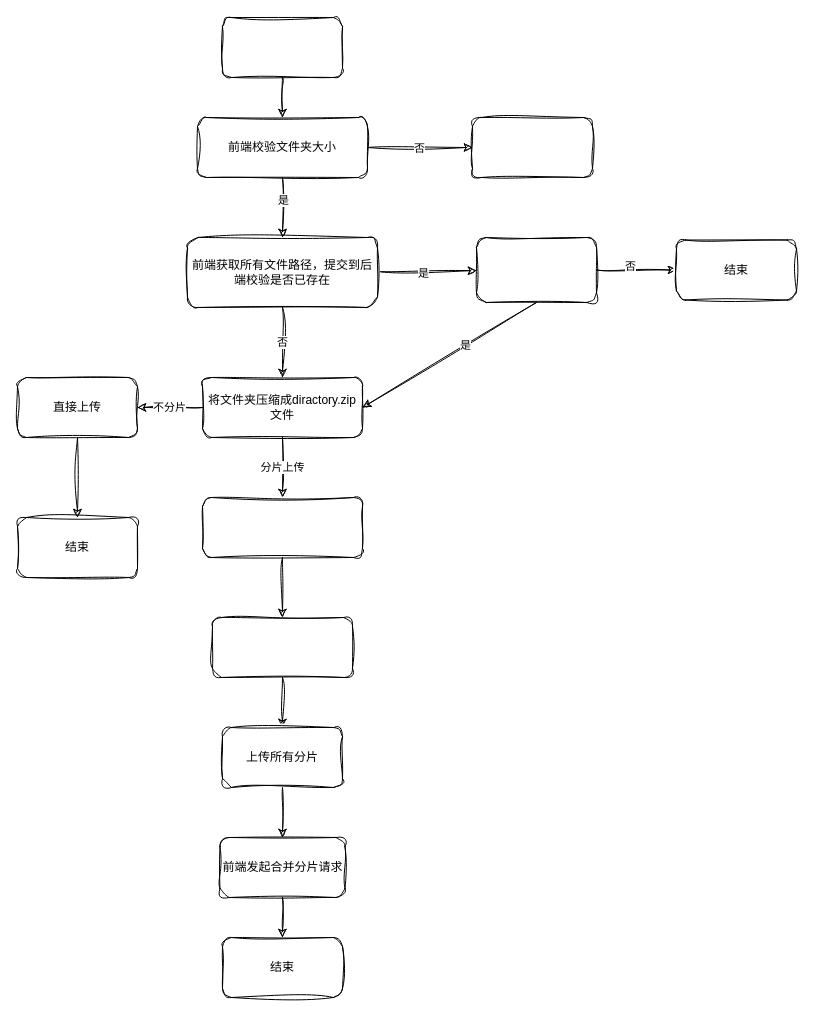
Image size: 814x1015. Some labels were removed from this diagram. The shapes that lost their labels are listed below. From the top down, each one's centre as x and y in pixels, then its label:
At point 282,47: "选择文件夹".
At point 532,147: "提示文件夹过大".
At point 536,269: "提示已存在，是否替换".
At point 282,527: "开始对文件进行分片，并计算md5".
At point 282,647: "接口获取需要上传的分片".
